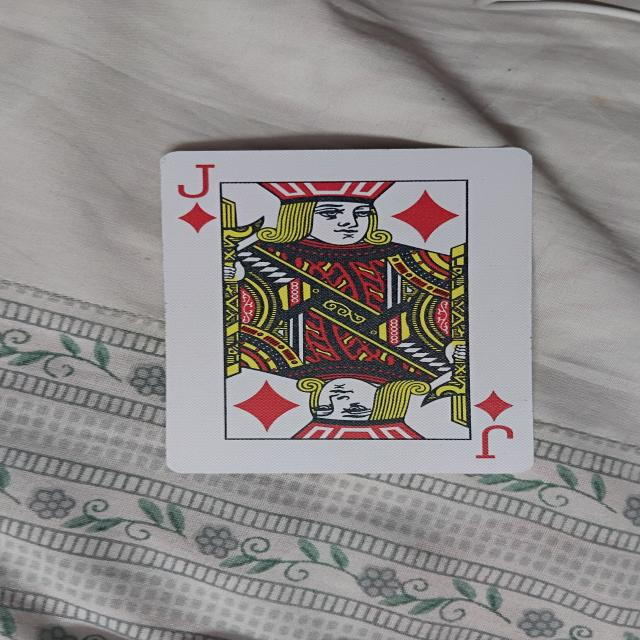JD: (160, 148, 546, 479)
